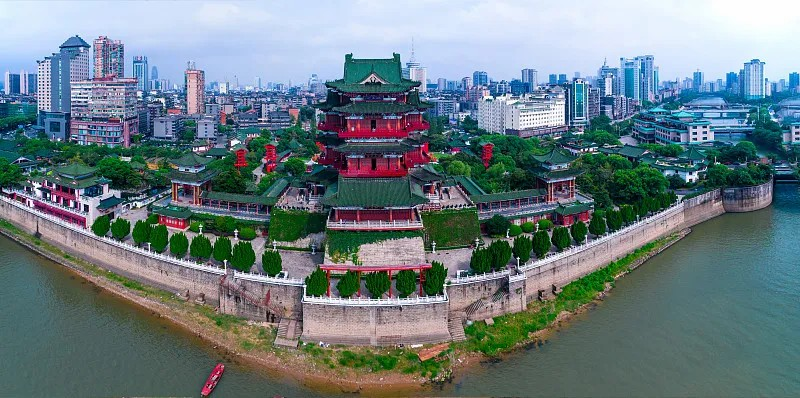Teng: (302, 53, 443, 227)
